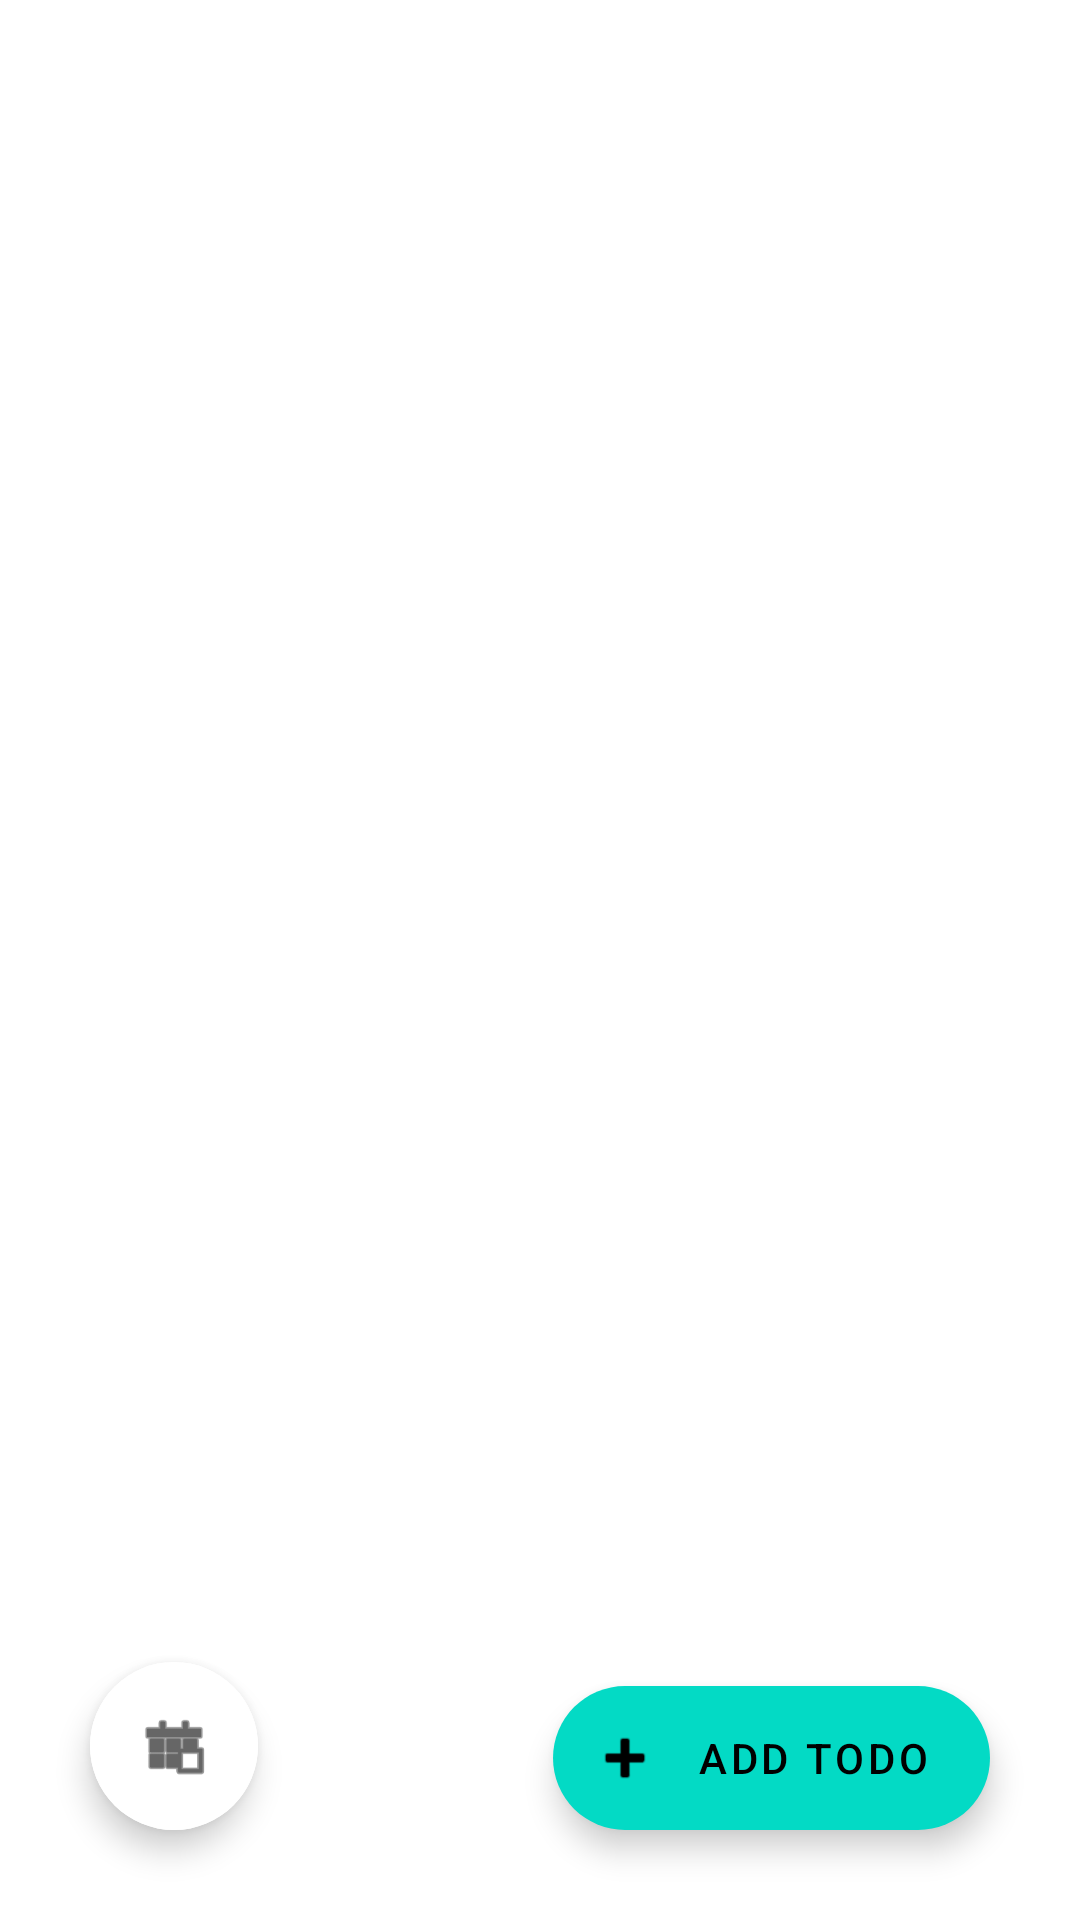

Icon click points for this 1080 x 1920 phone screenshot, format [x,y]:
today: [199,1750]
